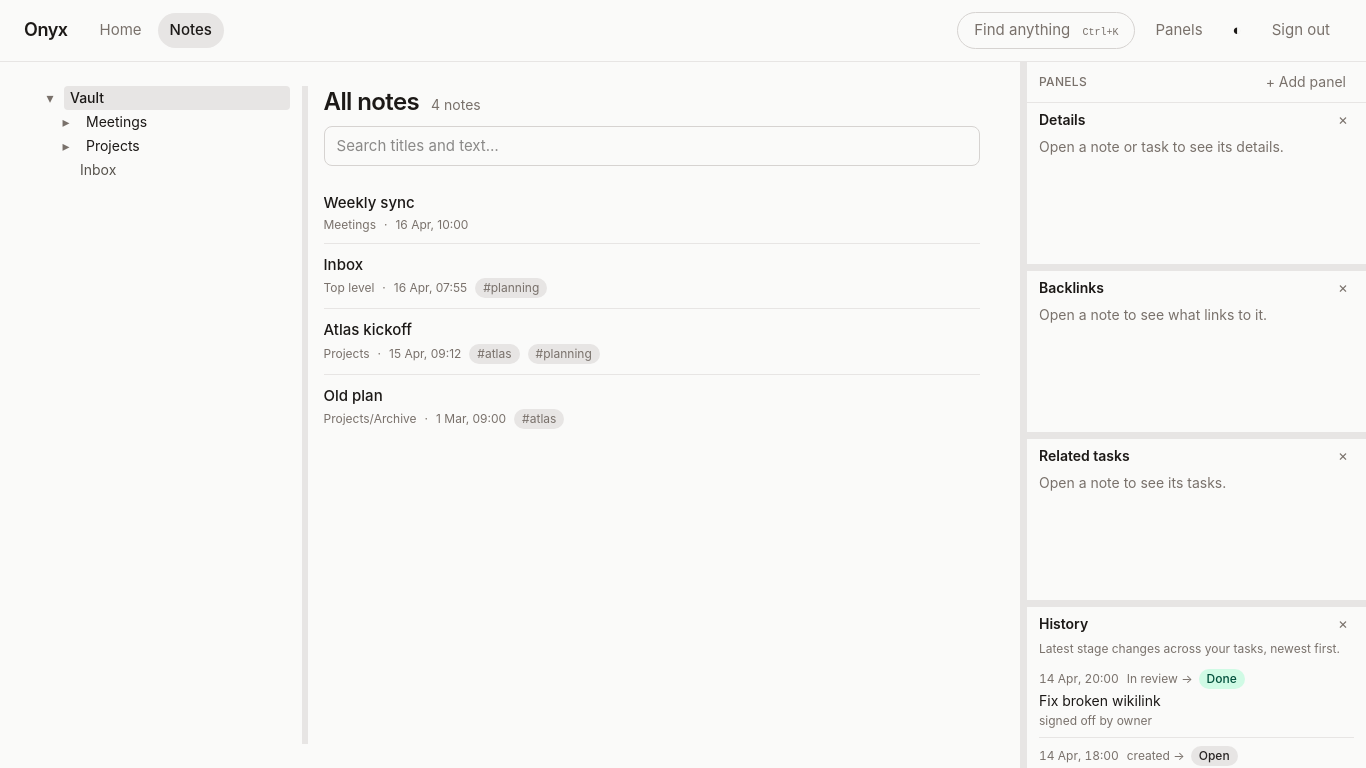
Test: Notes › filters by tag from a note's tag
What coordinates should you click on to do the following:
click the link "#planning" next to "16 Apr, 07:55"
I would click on:
 (511, 288)
Its box is [475, 278, 547, 298].
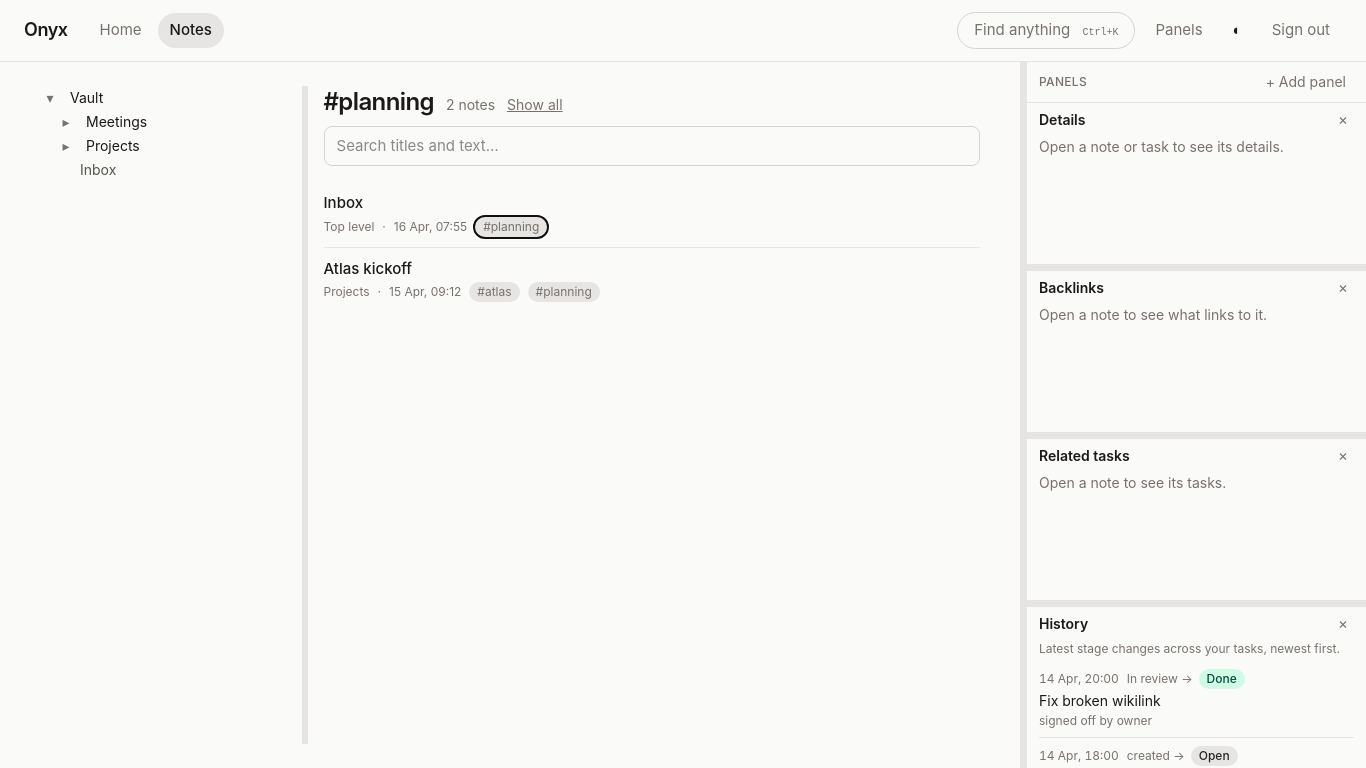
What coordinates should you click on to do the following:
click the link "Show all"
I would click on:
 (535, 104)
Its box is [507, 94, 563, 114].
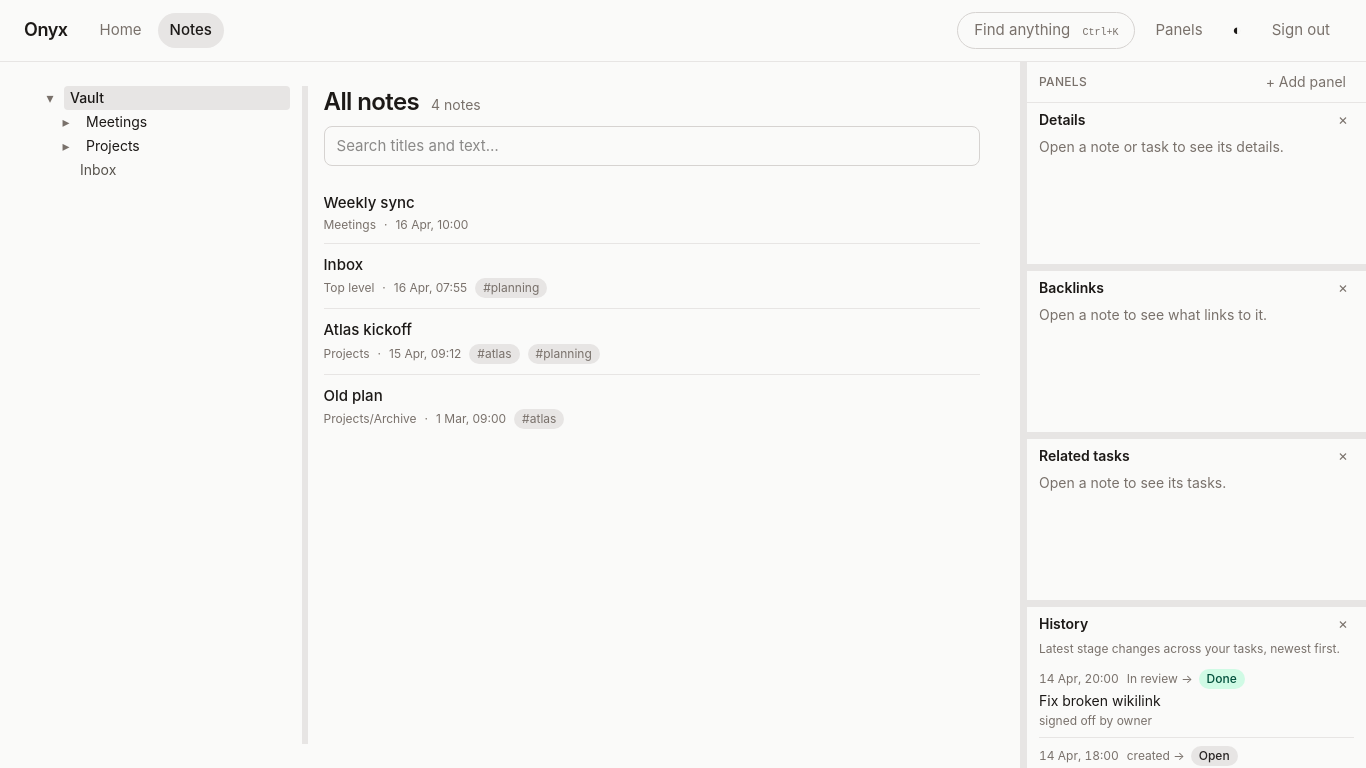
Result: the heading "All notes" is shown at [324, 86, 419, 118]
